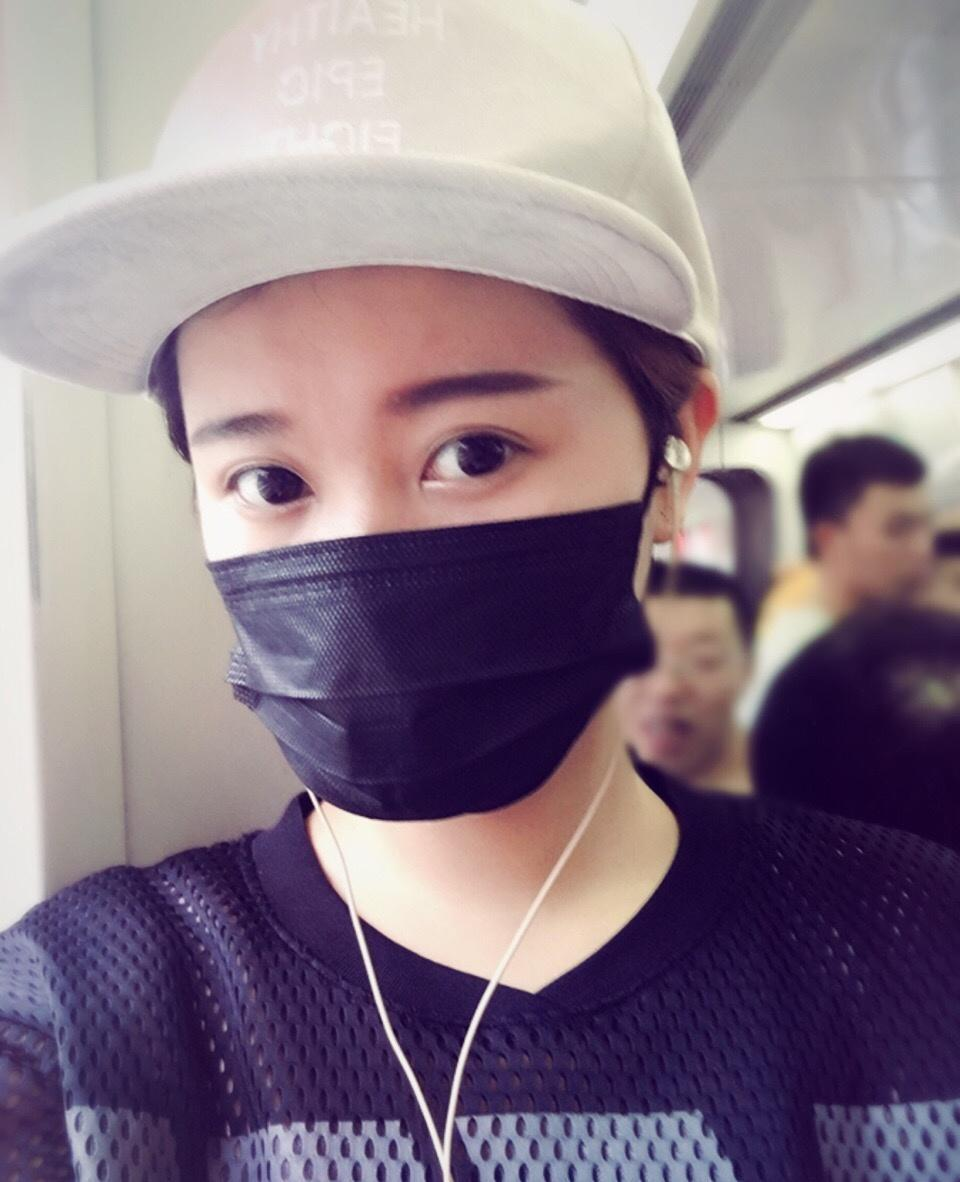NONE: (629, 629, 749, 766), (851, 491, 942, 606)
OK: (167, 363, 626, 822)
